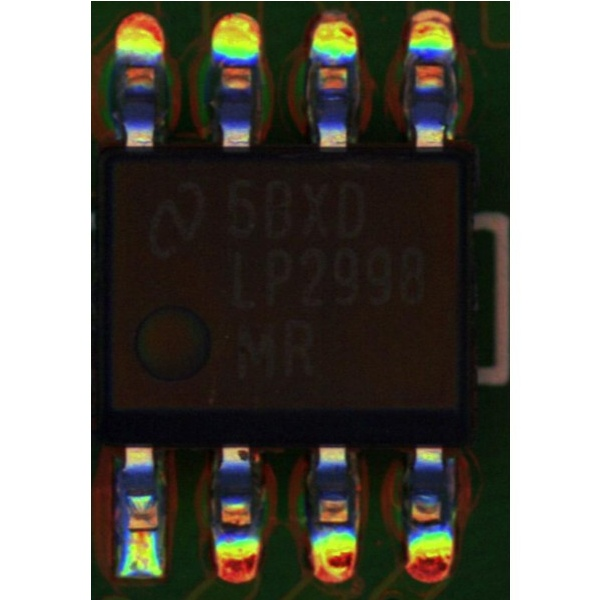Bad_podu: (128, 519, 152, 545)
